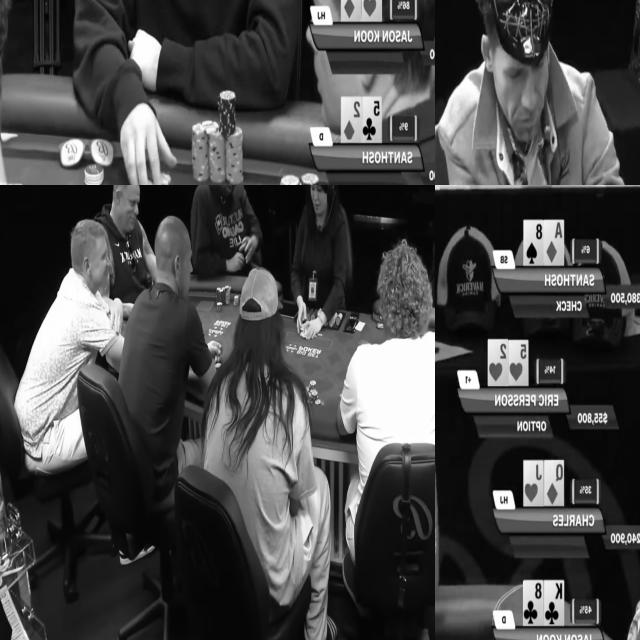2D: (341, 97, 363, 139)
2H: (488, 339, 508, 387)
5C: (362, 97, 382, 143)
5H: (507, 340, 529, 384)
8C: (523, 581, 544, 626)
8S: (524, 221, 544, 266)
AD: (543, 221, 565, 263)
AH: (361, 0, 382, 20)
JD: (341, 0, 360, 21)
JH: (524, 460, 544, 506)
KC: (544, 581, 564, 624)
QD: (545, 460, 563, 505)
